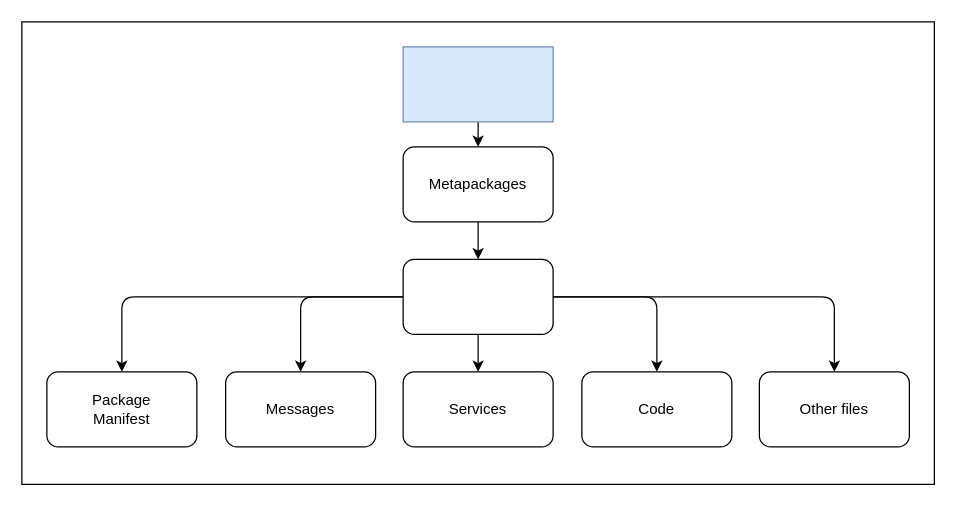
Some shapes in this 956 by 506 pixel diagram are drawn without their labels. The box of each missing label's shape, as (x1, y1, x2, y2) in pixels:
Packages: (402, 258, 553, 334)
ROS Filesystem: (402, 46, 553, 122)
